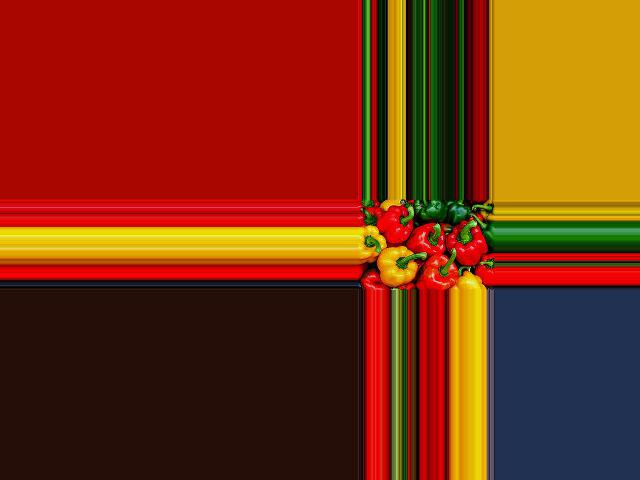bell_pepper: (458, 272, 481, 290)
